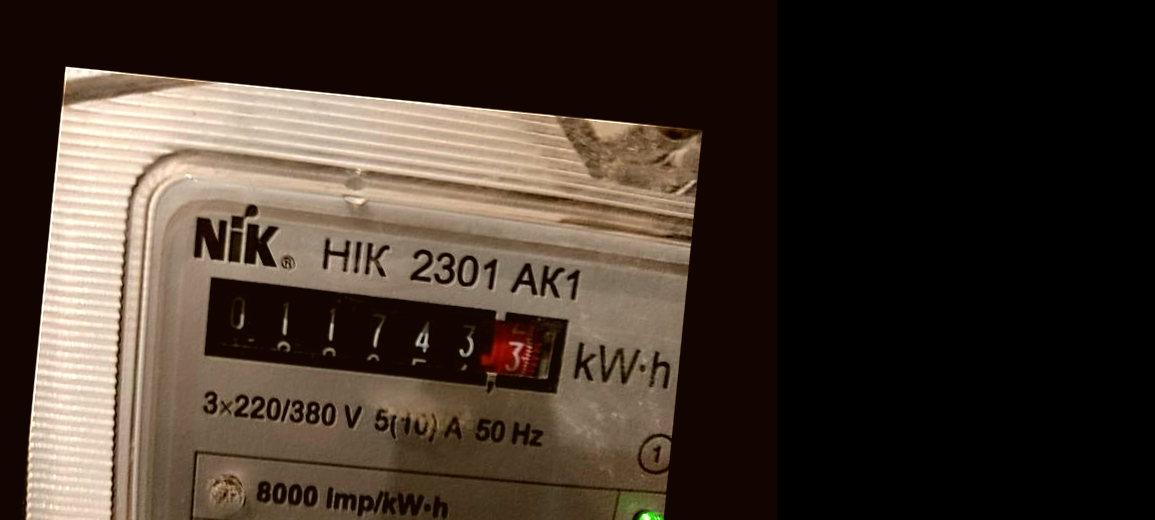0: (225, 293, 251, 334), (275, 297, 297, 339)
1: (321, 302, 341, 345)
3: (455, 319, 479, 363), (502, 336, 526, 376)
4: (411, 314, 435, 356)
7: (364, 306, 391, 353)
screen: (182, 262, 579, 407)
